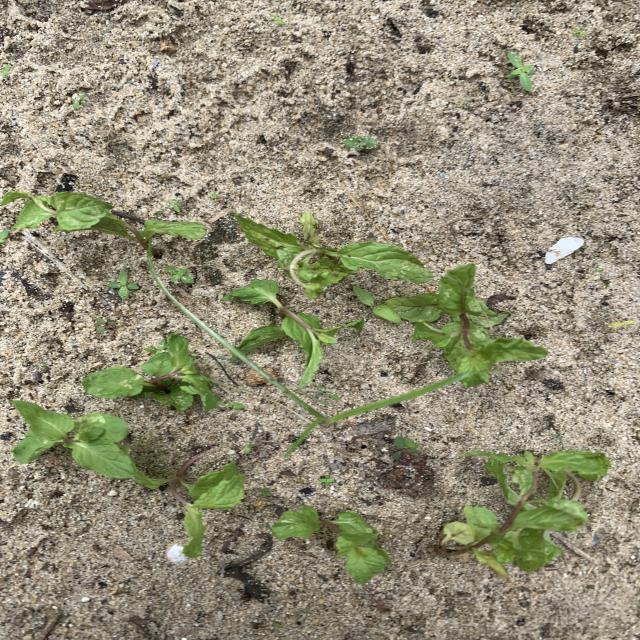crop: (436, 451, 609, 577), (388, 264, 546, 386), (237, 211, 431, 298), (225, 280, 362, 378), (2, 194, 203, 247), (137, 459, 243, 557), (11, 400, 142, 479), (81, 334, 217, 410), (268, 507, 390, 583)
weed: (150, 269, 463, 458), (507, 53, 534, 90), (110, 270, 138, 299), (393, 436, 420, 461), (344, 137, 376, 150), (95, 318, 117, 331), (71, 93, 87, 107), (608, 320, 635, 326), (166, 201, 179, 211), (269, 14, 283, 23), (1, 65, 10, 78), (319, 476, 332, 484), (257, 488, 271, 495)
